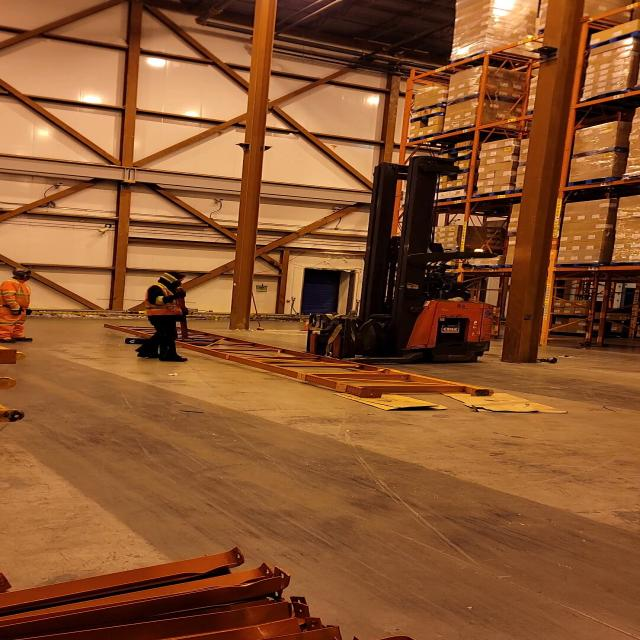forklift: (301, 161, 498, 365)
human: (124, 270, 193, 367), (402, 267, 480, 308), (0, 265, 37, 342)
objectofinterest: (98, 321, 496, 400), (436, 386, 577, 416), (326, 386, 460, 412), (118, 336, 148, 346)
